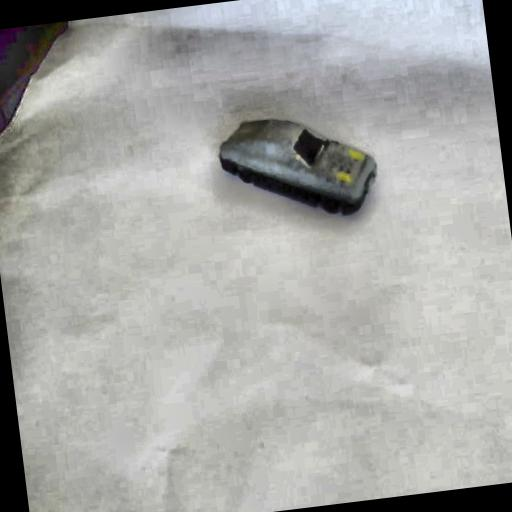normal_car: (212, 102, 382, 231)
